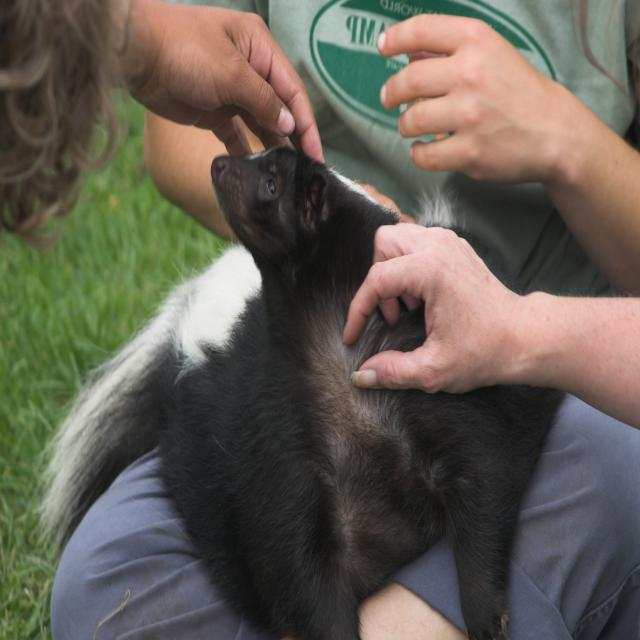Skunk: (43, 133, 520, 632)
